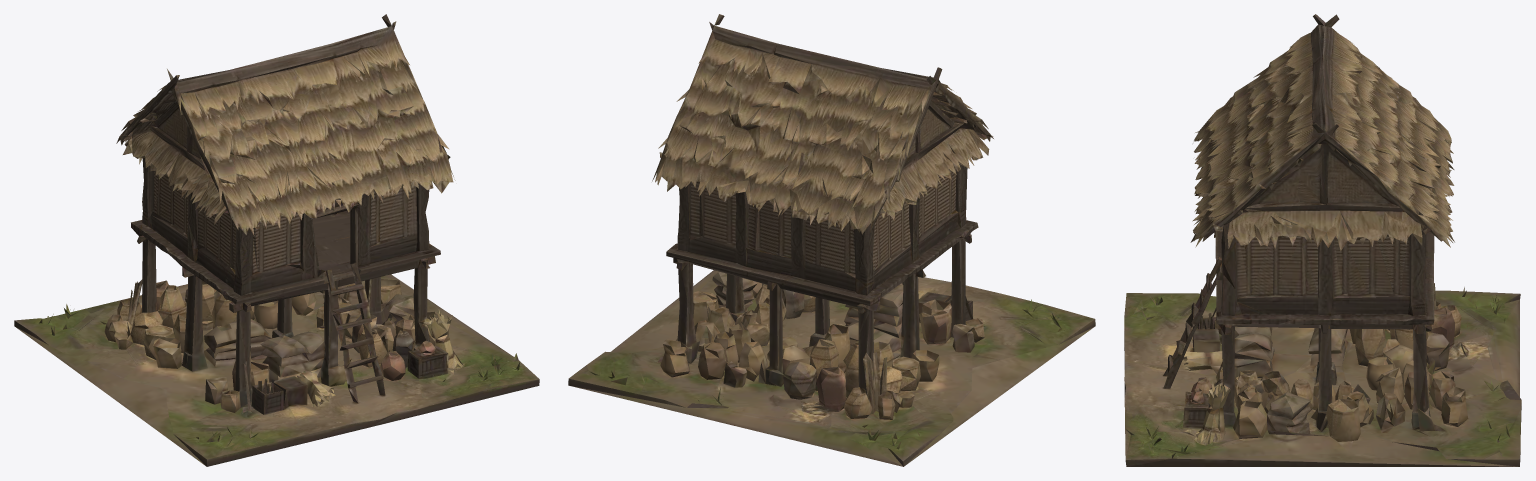
File: storehouse.glb
3 renders of one model, left to right at view 1: azimuth 30°, elevation 25°; view 2: azimuth 150°, elevation 25°; view 3: azimuth 270°, elevation 25°, orthographic. The views are drawn at different scales.
Parts seen in each view (by area): view 1: output_unwrapped; view 2: output_unwrapped; view 3: output_unwrapped.
Boxes of the visible parts, x1,y1,x2,y2 form: output_unwrapped: (14, 14, 539, 466); output_unwrapped: (568, 14, 1095, 466); output_unwrapped: (1124, 14, 1521, 466).
Size of the model in its own units: 1.9 by 1.67 by 1.89.
1 material, 1 textured.
